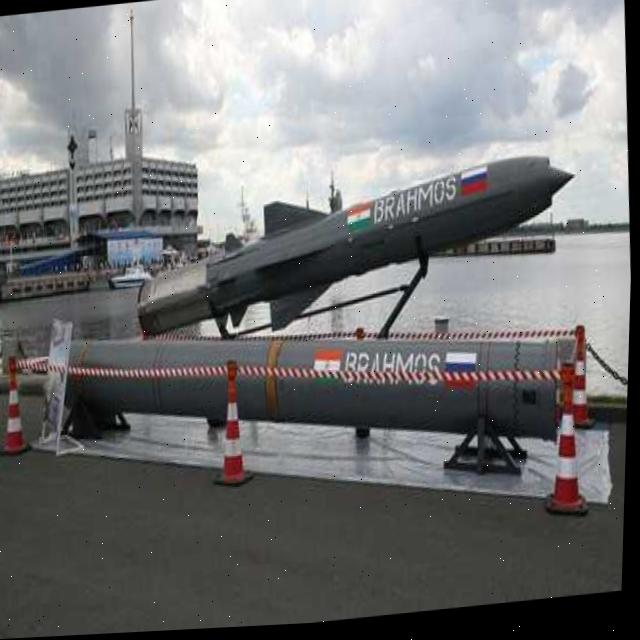missile: (31, 284, 585, 511), (127, 151, 581, 342)
